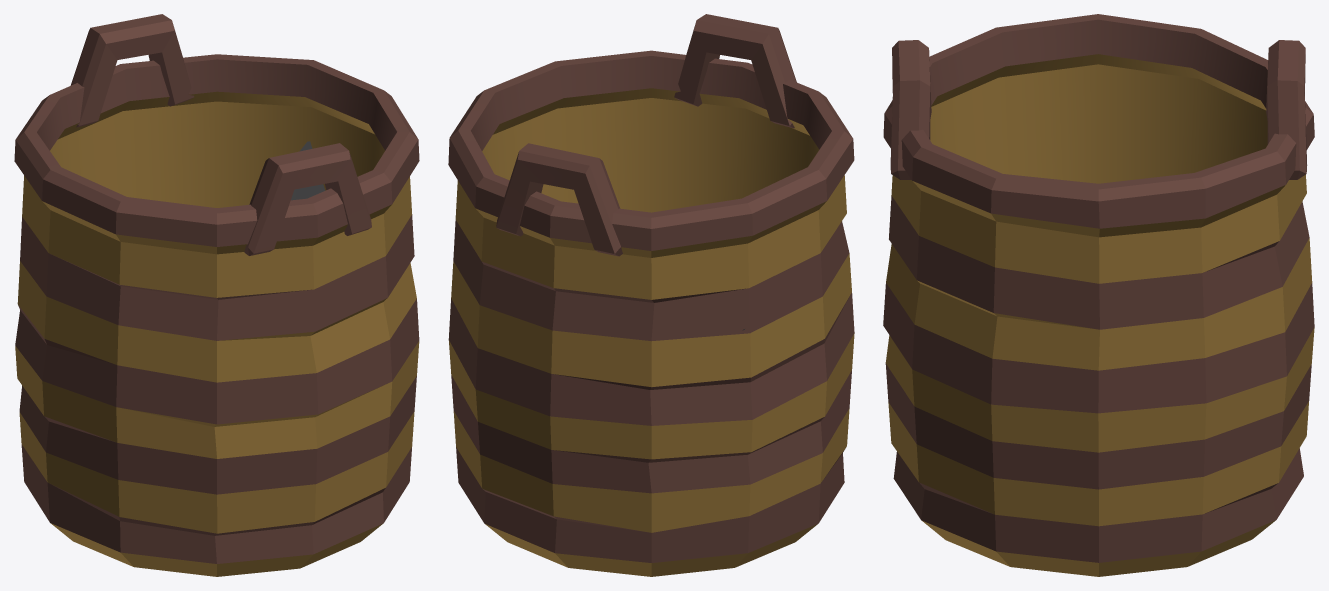
File: SM_Prop_Basket_02.fbx
3 views of the same model, side by side, from view 1: azimuth 30°, elevation 25°; view 2: azimuth 150°, elevation 25°; view 3: azimuth 270°, elevation 25° (orthographic). The views are drawn at different scales.
Visible parts, largest first — view 1: SM_Prop_Basket_02; view 2: SM_Prop_Basket_02; view 3: SM_Prop_Basket_02.
Part boxes in pixels (x1,y1,x2,y2): SM_Prop_Basket_02: (14,14,419,576); SM_Prop_Basket_02: (448,14,854,576); SM_Prop_Basket_02: (883,14,1314,576).
Size of the model in its own units: 0.5003 by 0.5721 by 0.5007.
